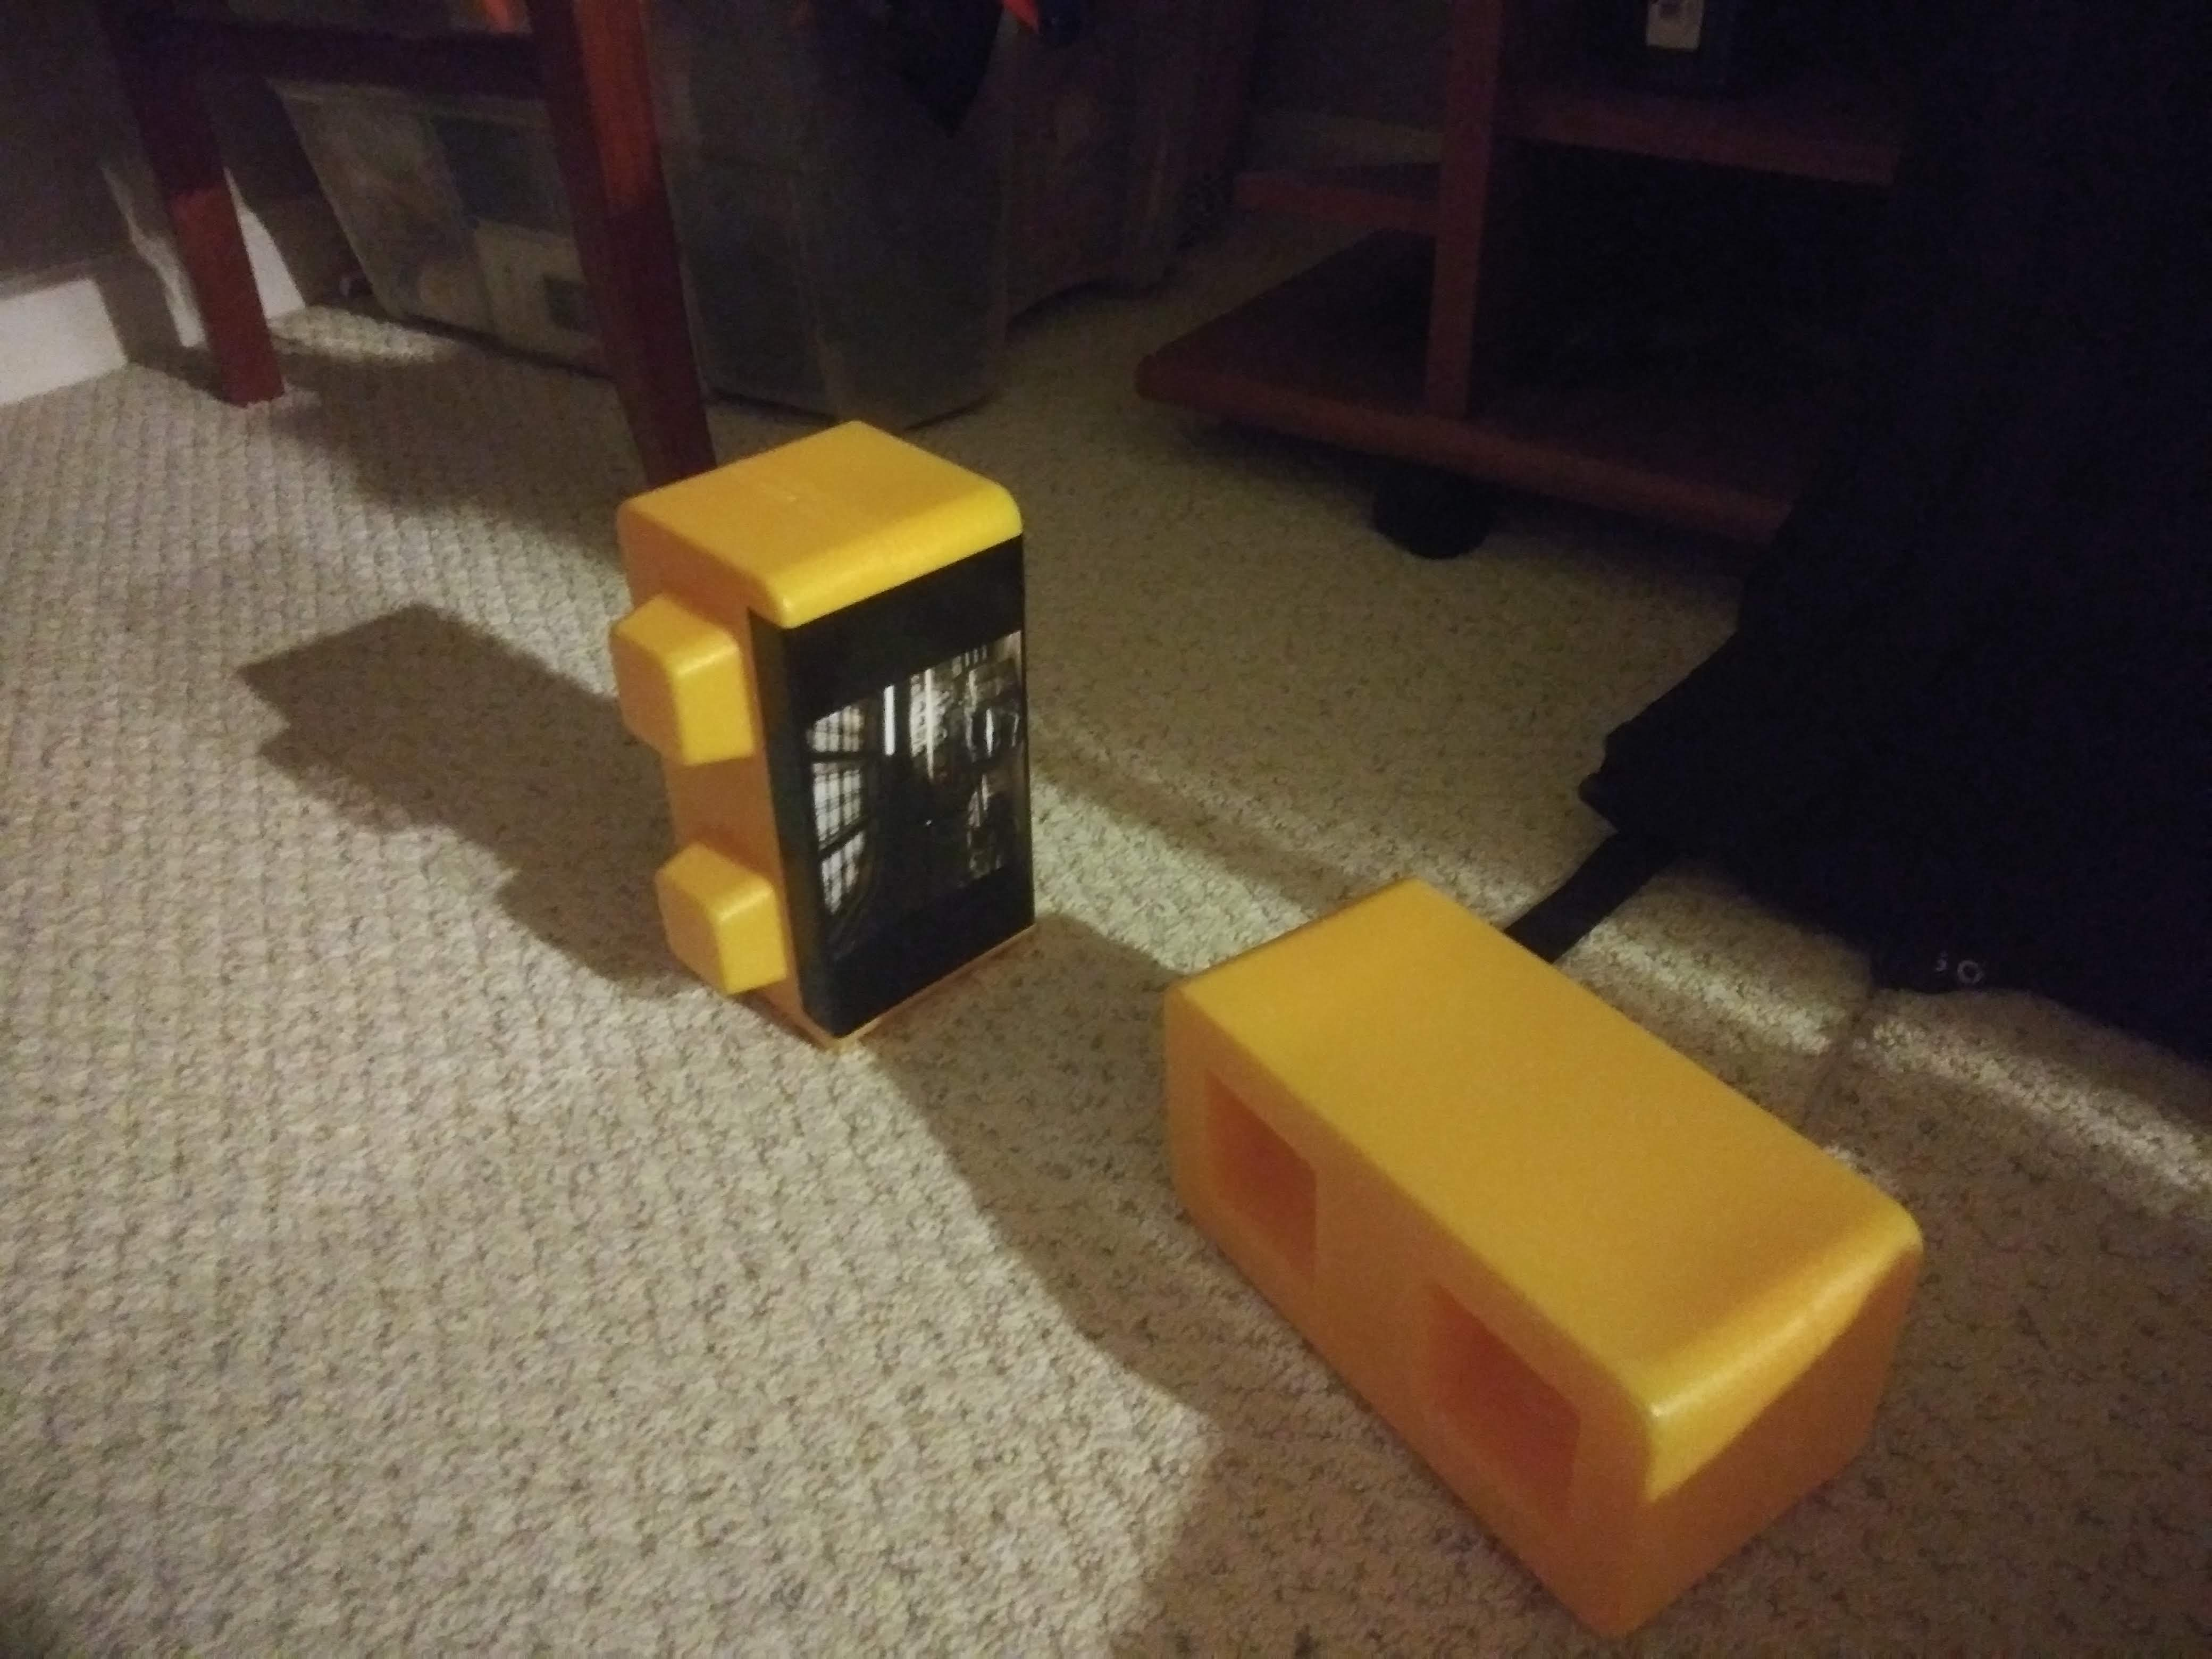skystone: (629, 481, 1045, 990)
stone: (1181, 889, 1858, 1506)
